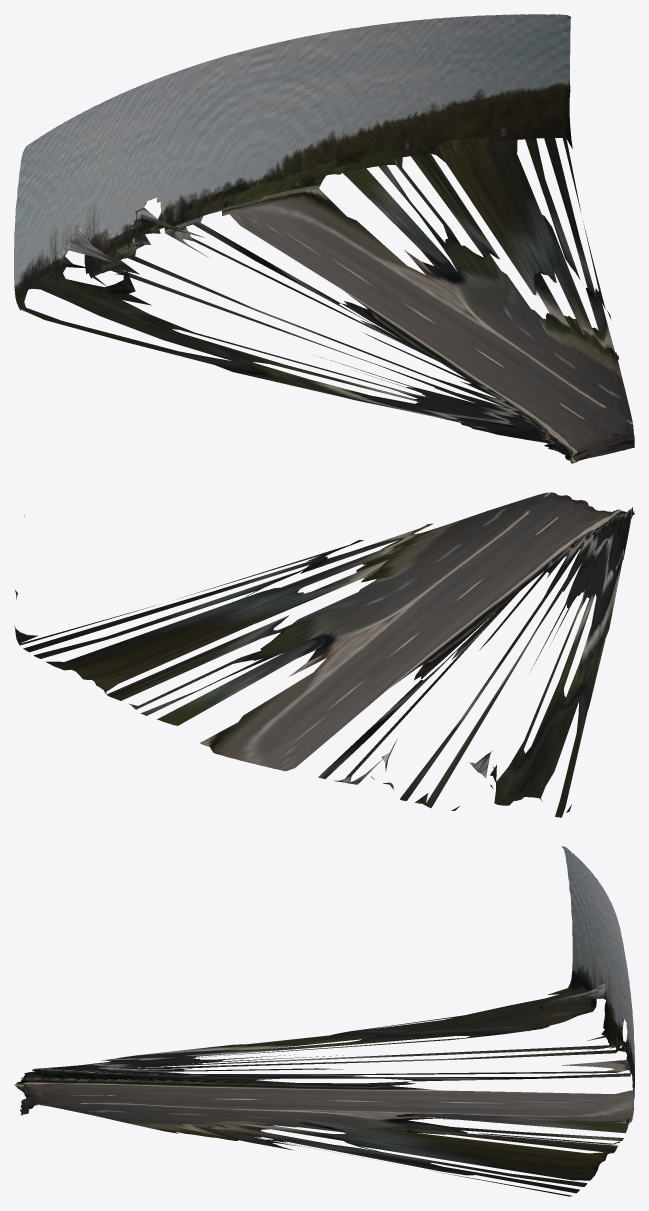
3 renders of one model, top to bottom at view 1: azimuth 30°, elevation 25°; view 2: azimuth 150°, elevation 25°; view 3: azimuth 270°, elevation 25°, orthographic. The views are drawn at different scales.
Parts seen in each view (by area): view 1: defaultobject; view 2: defaultobject; view 3: defaultobject.
Boxes of the visible parts, box(x1,y1,x2,y2) form: defaultobject: box(14, 14, 634, 463); defaultobject: box(14, 492, 634, 817); defaultobject: box(14, 846, 634, 1196).
Size of the model in its own units: 41.11 by 12.96 by 44.59.
1 material, 1 textured.
